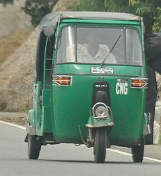cng: (30, 10, 150, 167)
